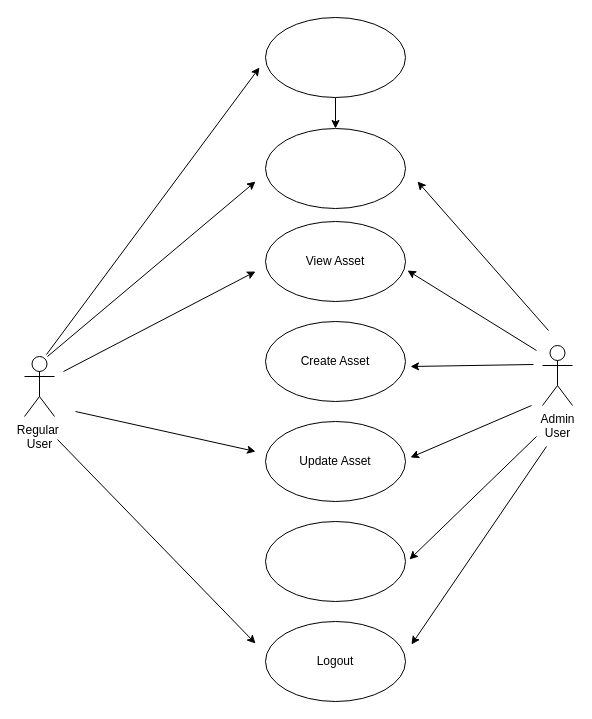
Image size: 592x719. Some labels were removed from this diagram. Each missing label, with the centre of its shape:
Delete Asset: the point at 335,561
Login: the point at 335,168
Register: the point at 335,57
